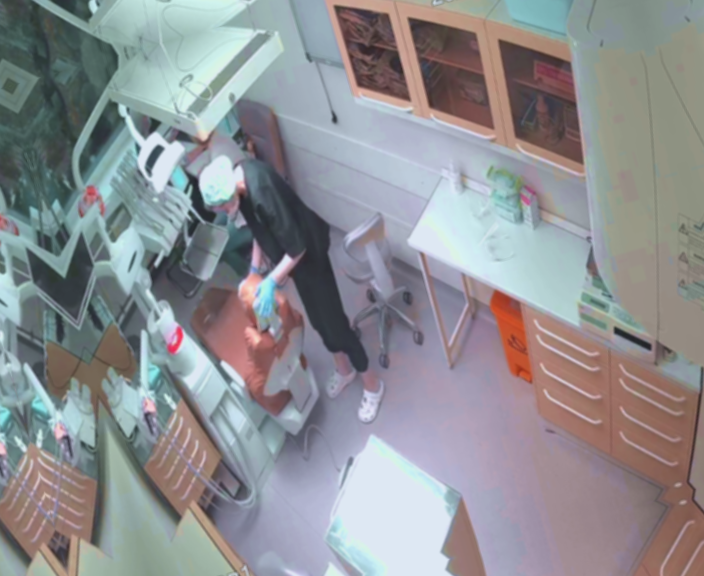Empty: (174, 255, 332, 454)
